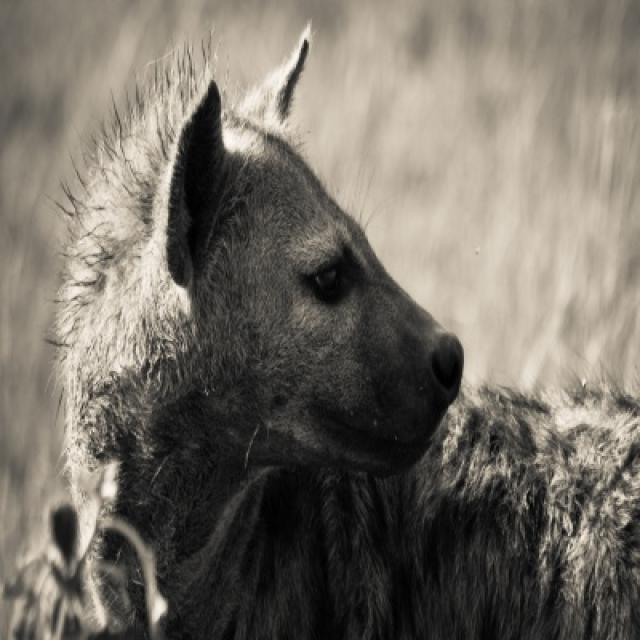hyena: (6, 35, 638, 638)
